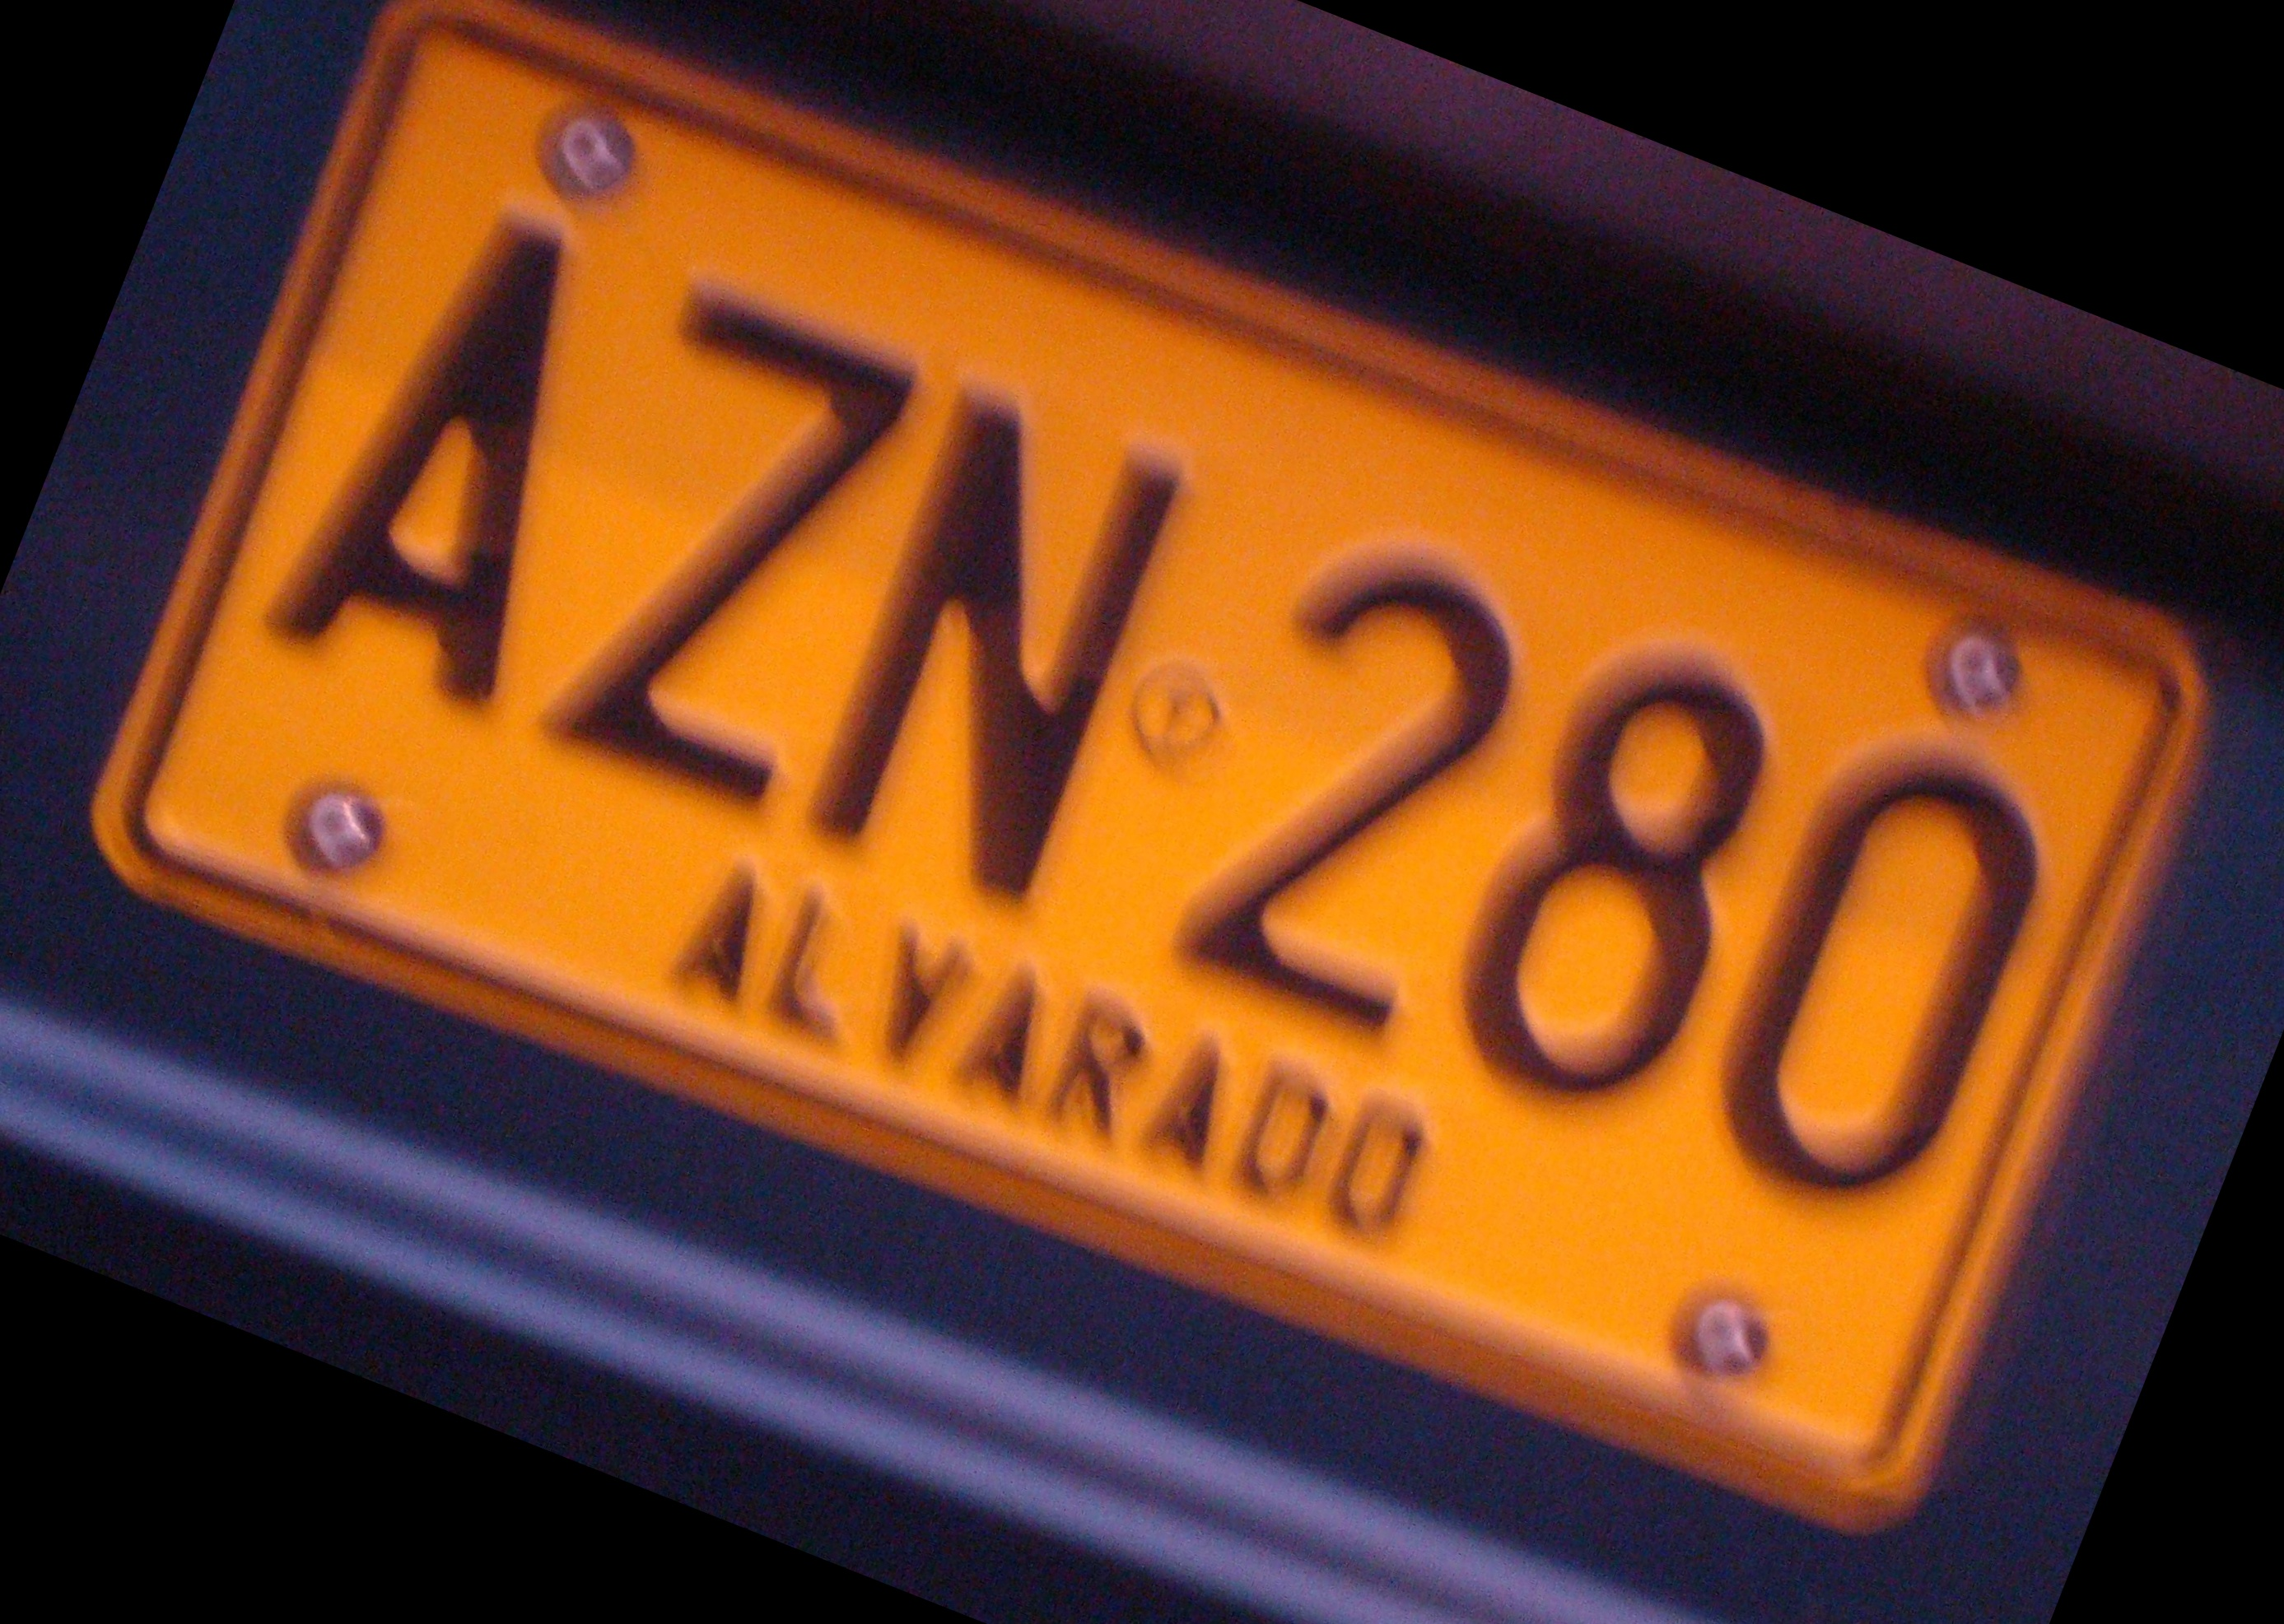placas: (11, 0, 2284, 1624)
